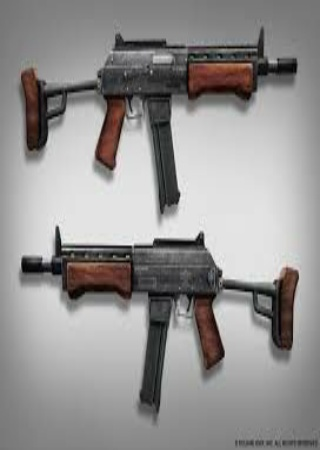rifle: (6, 10, 301, 215), (15, 220, 300, 414)
